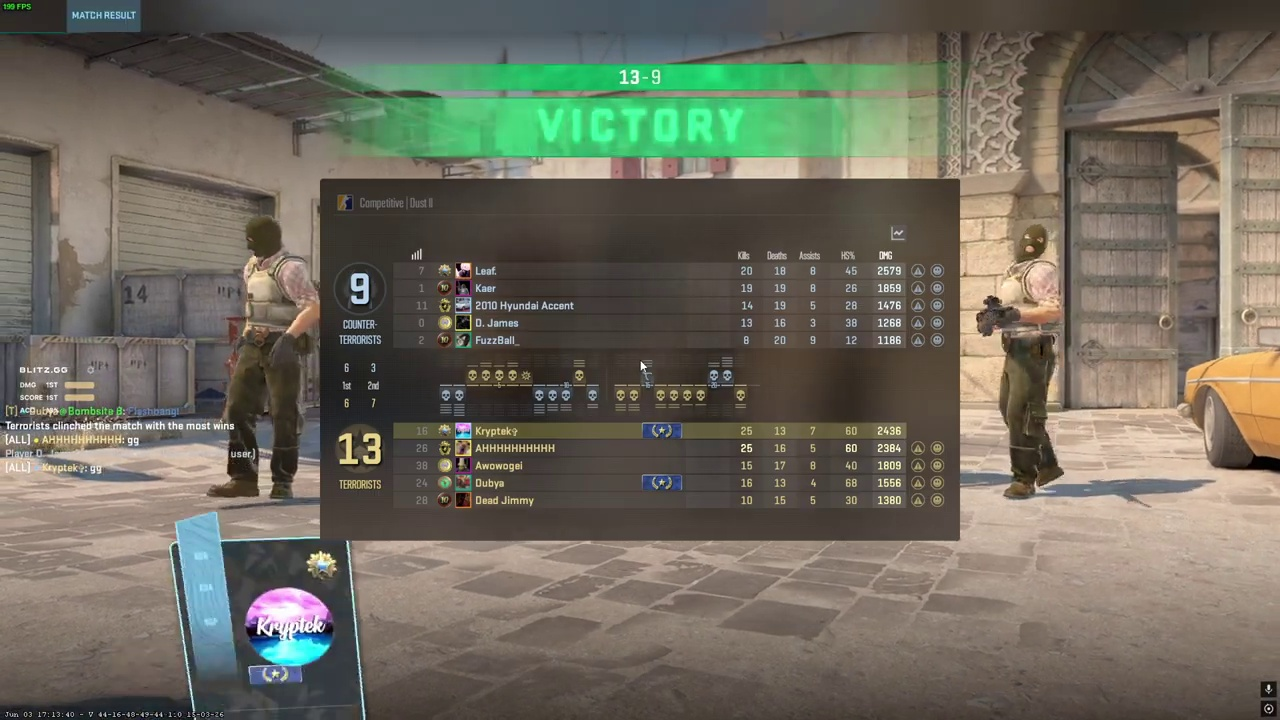Terrorist: (211, 216, 317, 504), (985, 223, 1071, 499)
